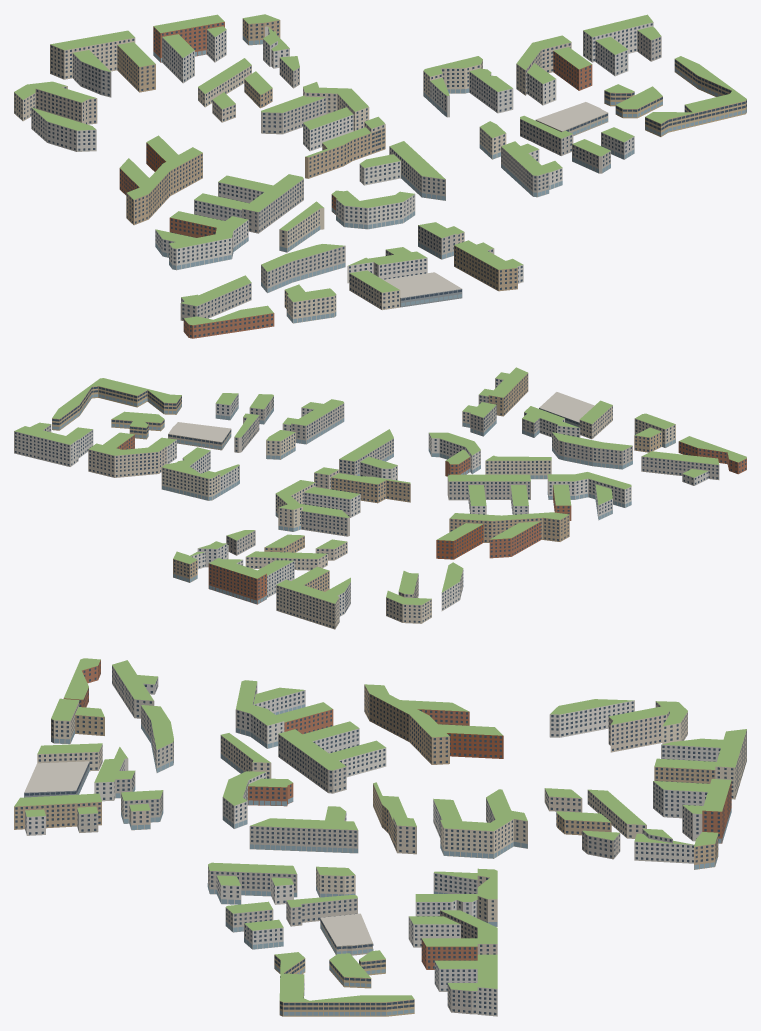
3 views of the same model, one above another, from view 1: azimuth 30°, elevation 25°; view 2: azimuth 150°, elevation 25°; view 3: azimuth 270°, elevation 25° (orthographic). The views are drawn at different scales.
Parts seen in each view (by area): view 1: S1_P3_wand, S1_P2_wand, S1_P1_wand, S1_P3_dach, S1_P4_wand, S1_P3_fenster, S1_P2_dach, S1_P4_dach, S1_P1_dach, S1_P2_fenster, S1_P4_fenster, S1_P1_fenster; view 2: S1_P2_wand, S1_P3_wand, S1_P3_dach, S1_P1_wand, S1_P4_wand, S1_P3_fenster, S1_P2_dach, S1_P2_fenster, S1_P4_dach, S1_P1_dach, S1_P1_fenster, S1_P4_fenster; view 3: S1_P3_wand, S1_P2_wand, S1_P3_dach, S1_P1_wand, S1_P3_fenster, S1_P2_dach, S1_P4_dach, S1_P4_wand, S1_P1_dach, S1_P2_fenster, S1_P1_fenster, S1_P4_fenster.
Part boxes in pixels (x1,y1,x2,y2): S1_P3_wand: (155,59,746,270); S1_P2_wand: (119,22,661,225); S1_P1_wand: (14,18,299,151); S1_P3_dach: (155,56,746,248); S1_P4_wand: (180,225,523,338); S1_P3_fenster: (155,60,746,269); S1_P2_dach: (120,14,660,199); S1_P4_dach: (181,222,522,325); S1_P1_dach: (14,14,299,130); S1_P2_fenster: (120,23,660,223); S1_P4_fenster: (181,226,522,337); S1_P1_fenster: (14,20,298,150); S1_P2_wand: (14,424,569,559); S1_P3_wand: (52,386,631,520); S1_P3_dach: (52,378,631,505); S1_P1_wand: (173,530,463,629); S1_P4_wand: (462,373,746,485); S1_P3_fenster: (52,386,631,519); S1_P2_dach: (14,422,569,540); S1_P2_fenster: (15,425,568,558); S1_P4_dach: (462,367,746,477); S1_P1_dach: (173,530,463,604); S1_P1_fenster: (173,531,463,627); S1_P4_fenster: (462,374,746,484); S1_P3_wand: (208,683,414,1016); S1_P2_wand: (364,684,527,1016); S1_P3_dach: (208,680,414,1002); S1_P1_wand: (544,700,746,869); S1_P3_fenster: (207,686,414,1015); S1_P2_dach: (364,684,527,990); S1_P4_dach: (14,658,173,816); S1_P4_wand: (14,660,173,835); S1_P1_dach: (545,699,746,846); S1_P2_fenster: (364,686,527,1014); S1_P1_fenster: (545,701,746,869); S1_P4_fenster: (15,662,173,834).
Size of the model in its own units: 526 by 22.8 by 474.
